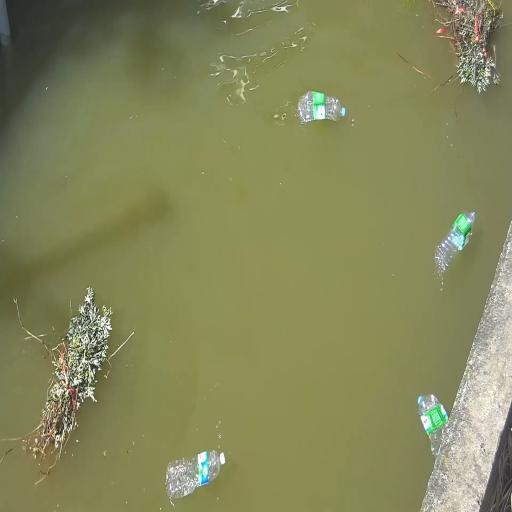plastic: (166, 451, 225, 500), (435, 212, 475, 273), (418, 395, 448, 457), (298, 91, 345, 124), (220, 453, 225, 465)
twig: (30, 287, 112, 455), (433, 0, 502, 92)
